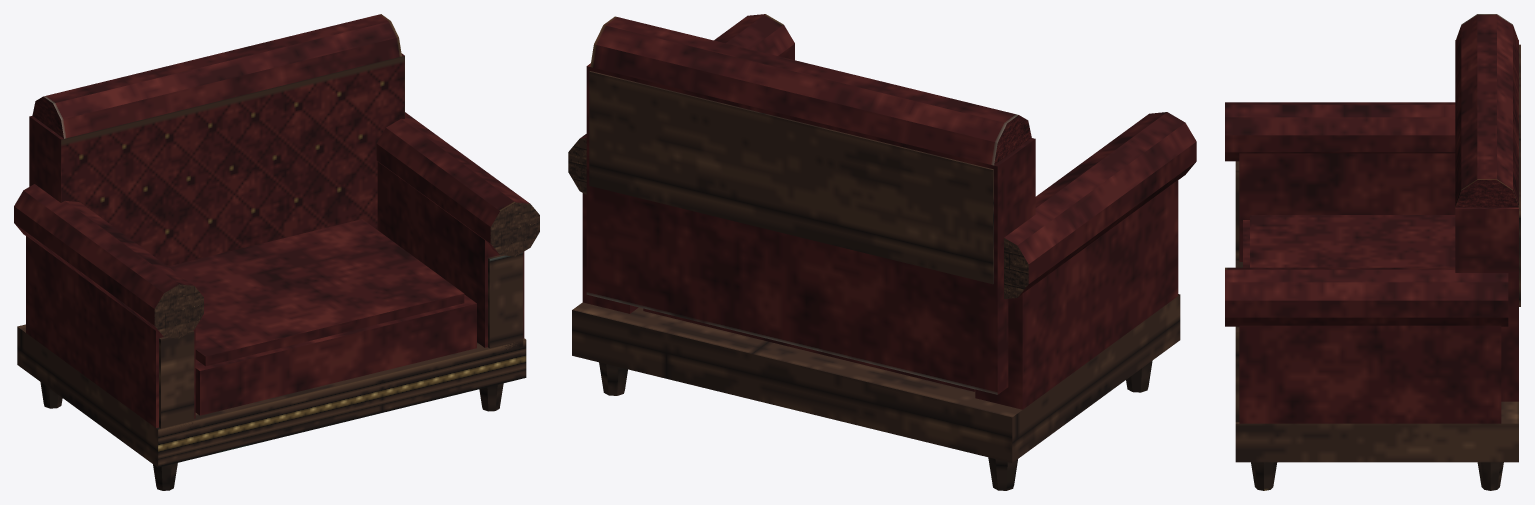
File: Furn_Sofa_Short.fbx
3 views of the same model, side by side, from view 1: azimuth 30°, elevation 25°; view 2: azimuth 150°, elevation 25°; view 3: azimuth 270°, elevation 25° (orthographic). The views are drawn at different scales.
Parts seen in each view (by area): view 1: Furn_Sofa_Short; view 2: Furn_Sofa_Short; view 3: Furn_Sofa_Short.
Boxes of the visible parts, bbox=[...] form: Furn_Sofa_Short: bbox=[14, 14, 539, 490]; Furn_Sofa_Short: bbox=[568, 14, 1196, 490]; Furn_Sofa_Short: bbox=[1225, 14, 1520, 490].
Bounding box in the file's own units: 1.27 × 0.9656 × 0.835.
